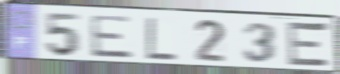2: (194, 18, 227, 64)
3: (241, 21, 279, 65)
5: (42, 11, 84, 58)
E: (286, 19, 332, 71), (88, 14, 137, 60)
L: (145, 15, 179, 62)
